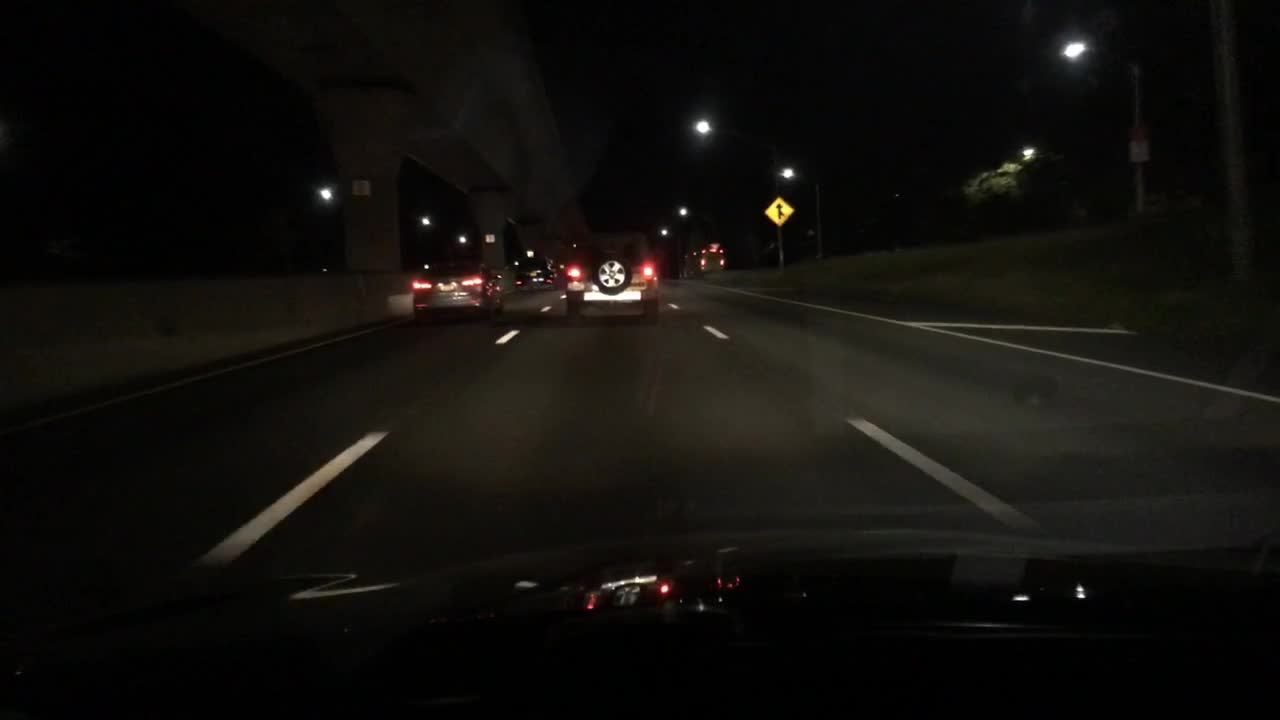bus: (681, 240, 727, 277)
car: (562, 227, 663, 323), (409, 256, 503, 324), (511, 253, 556, 293)
traffic sign: (764, 196, 795, 228), (350, 180, 371, 197)
